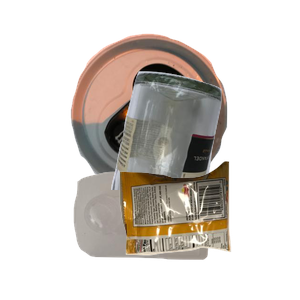glass: (109, 69, 300, 249)
metal: (68, 31, 288, 211)
plastic: (71, 169, 275, 300)
trash: (117, 159, 300, 300)
